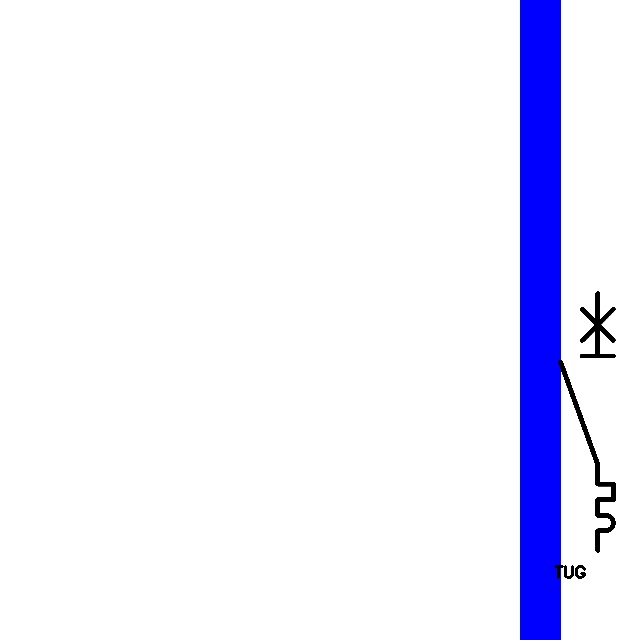interruptor_termomagnetico: (554, 287, 620, 557)
